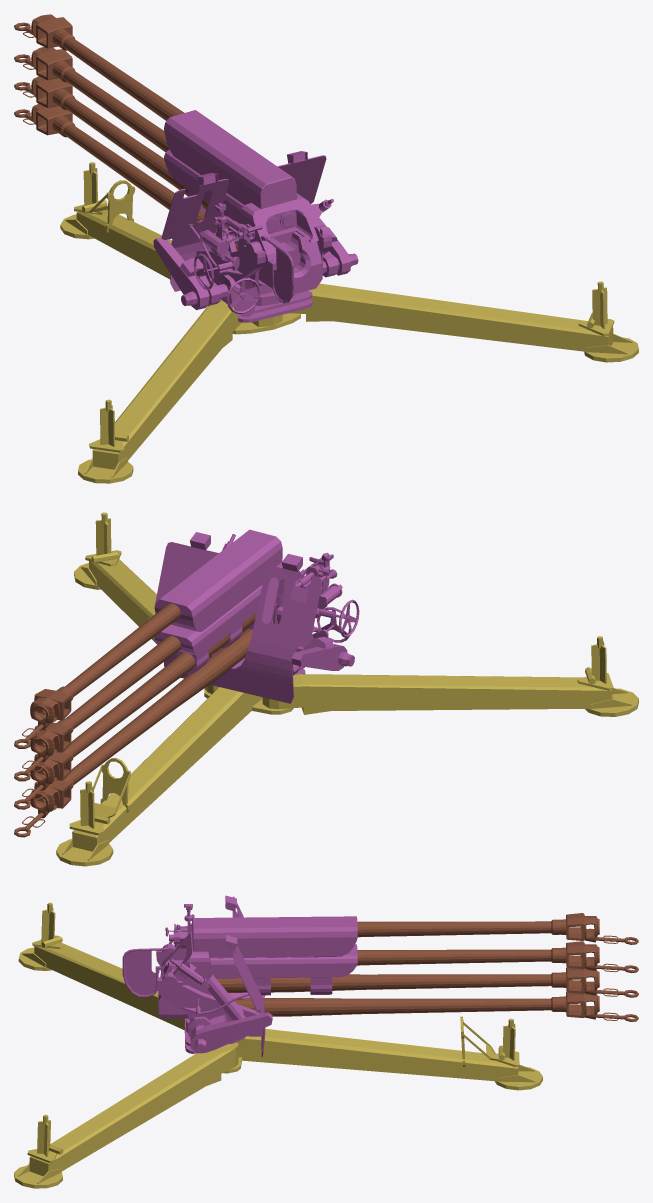
File: gausbitsa-d-30_Update4.fbx
3 views of the same model, one above another, from view 1: azimuth 30°, elevation 25°; view 2: azimuth 150°, elevation 25°; view 3: azimuth 270°, elevation 25° (orthographic). The views are drawn at different scales.
Parts seen in each view (by area): view 1: Attack, Base; view 2: Attack, Base; view 3: Attack, Base.
Part boxes in pixels (<box>): Attack: <box>14,14,358,322</box>; Base: <box>60,162,638,483</box>; Attack: <box>14,529,359,837</box>; Base: <box>56,512,638,866</box>; Attack: <box>122,895,638,1056</box>; Base: <box>14,902,542,1188</box>.
Size of the model in its own units: 24.84 by 8.12 by 27.47.
